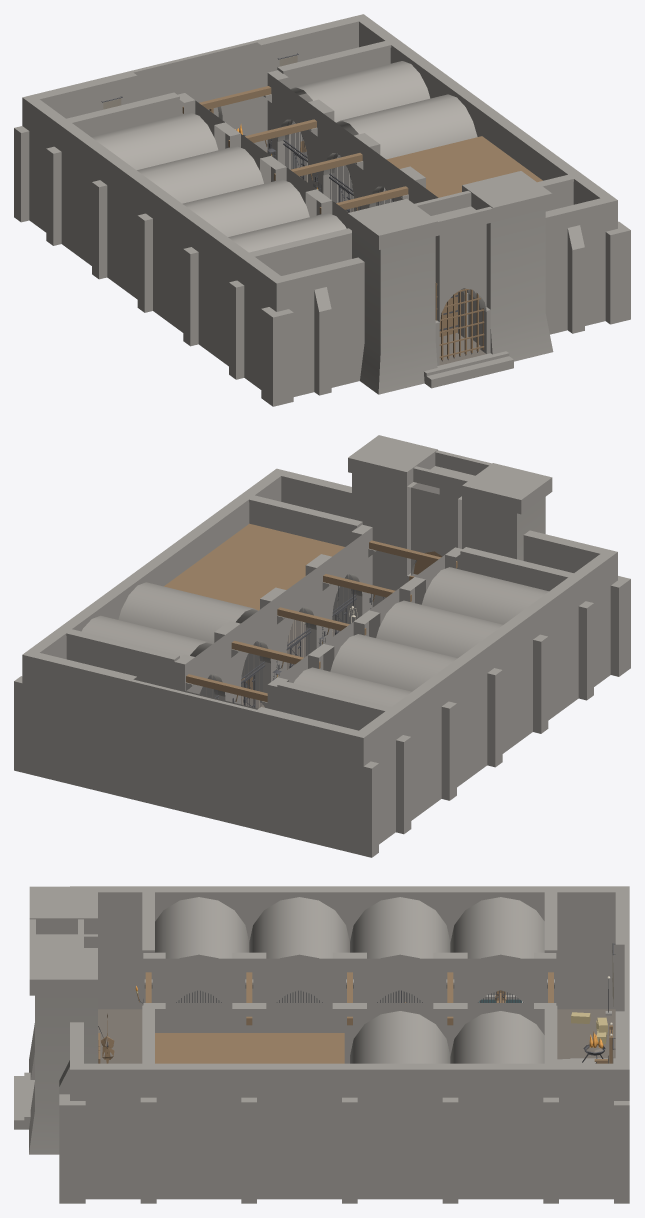
The model's file is Foso_V3_MEDIUM.dae.
3 renders of one model, top to bottom at view 1: azimuth 30°, elevation 25°; view 2: azimuth 150°, elevation 25°; view 3: azimuth 270°, elevation 25°, orthographic. The views are drawn at different scales.
Visible parts, largest first — view 1: G_Torre_O_LOD2, G_Muro_O_LOD2, G_Torre_E_LOD2, G_Muro_E_LOD2, N_Fondo_C_LOD2, C02_Muro_LOD2, C03_Muro_LOD2, C01_Muro_LOD2, C04_Muro_LOD2, G_Arco_LOD2, C07_Boveda_LOD2, C08_Boveda_LOD2 (+34 smaller); view 2: N_Fondo_C_LOD2, N_Fondo_E_LOD2, N_Fondo_O_LOD2, G_Torre_E_LOD2, C05_Techo_LOD2, G_Torre_O_LOD2, C03_Muro_LOD2, C02_Muro_LOD2, C01_Muro_LOD2, C04_Muro_LOD2, N_Muro_O_LOD2, G_Arco_LOD2 (+33 smaller); view 3: C05_Muro_LOD2, C07_Muro_LOD2, C08_Muro_LOD2, N_Muro_E_LOD2, V_Muro_E_LOD2, G_Torre_E_LOD2, N_Muro_O_LOD2, C05_Techo_LOD2, V_Muro_O_LOD2, C02_Boveda_LOD2, C03_Boveda_LOD2, C01_Boveda_LOD2 (+36 smaller).
Part boxes in pixels (bbox=[...]): G_Torre_O_LOD2: bbox=[348, 198, 439, 394]; G_Muro_O_LOD2: bbox=[261, 257, 364, 406]; G_Torre_E_LOD2: bbox=[458, 171, 553, 361]; G_Muro_E_LOD2: bbox=[545, 195, 630, 334]; N_Fondo_C_LOD2: bbox=[131, 40, 261, 145]; C02_Muro_LOD2: bbox=[137, 188, 205, 332]; C03_Muro_LOD2: bbox=[92, 154, 159, 299]; C01_Muro_LOD2: bbox=[183, 221, 251, 366]; C04_Muro_LOD2: bbox=[46, 121, 114, 265]; G_Arco_LOD2: bbox=[414, 190, 492, 322]; C07_Boveda_LOD2: bbox=[336, 94, 477, 159]; C08_Boveda_LOD2: bbox=[290, 61, 430, 122]; N_Fondo_C_LOD2: bbox=[131, 679, 258, 829]; N_Fondo_E_LOD2: bbox=[33, 653, 137, 798]; N_Fondo_O_LOD2: bbox=[255, 707, 358, 852]; G_Torre_E_LOD2: bbox=[348, 435, 437, 607]; C05_Techo_LOD2: bbox=[164, 523, 344, 610]; G_Torre_O_LOD2: bbox=[462, 463, 552, 560]; C03_Muro_LOD2: bbox=[434, 642, 490, 800]; C02_Muro_LOD2: bbox=[480, 609, 536, 767]; C01_Muro_LOD2: bbox=[526, 575, 582, 733]; C04_Muro_LOD2: bbox=[388, 676, 444, 834]; N_Muro_O_LOD2: bbox=[352, 709, 399, 857]; G_Arco_LOD2: bbox=[407, 450, 491, 575]; C05_Muro_LOD2: bbox=[148, 1063, 357, 1203]; C07_Muro_LOD2: bbox=[350, 1063, 458, 1203]; C08_Muro_LOD2: bbox=[450, 1063, 558, 1203]; N_Muro_E_LOD2: bbox=[551, 1063, 629, 1203]; V_Muro_E_LOD2: bbox=[84, 1063, 156, 1203]; G_Torre_E_LOD2: bbox=[29, 948, 97, 1154]; N_Muro_O_LOD2: bbox=[551, 886, 629, 1011]; C05_Techo_LOD2: bbox=[155, 1033, 344, 1063]; V_Muro_O_LOD2: bbox=[84, 886, 148, 1009]; C02_Boveda_LOD2: bbox=[249, 897, 349, 958]; C03_Boveda_LOD2: bbox=[350, 897, 450, 958]; C01_Boveda_LOD2: bbox=[155, 897, 249, 958].
Size of the model in its own units: 26 by 35.27 by 11.
